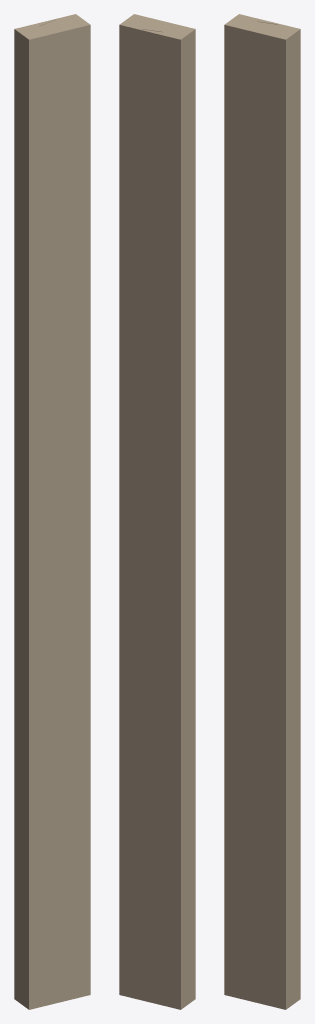
The model's file is T-CAPJIG-RU1.glb.
3 views of the same model, side by side, from view 1: azimuth 30°, elevation 25°; view 2: azimuth 150°, elevation 25°; view 3: azimuth 330°, elevation 25° (orthographic).
Visible parts, largest first — view 1: geometry_0; view 2: geometry_0; view 3: geometry_0.
Part boxes in pixels (x1,y1,x2,y2): geometry_0: (14,14,90,1009); geometry_0: (119,14,195,1009); geometry_0: (224,14,300,1009).
Size of the model in its own units: 130 by 1960 by 53.93.
